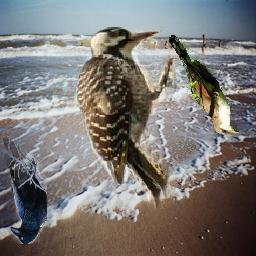Crow: (1, 136, 47, 244)
Cuckoo: (170, 35, 241, 135)
Woodpecker: (74, 21, 180, 209)
